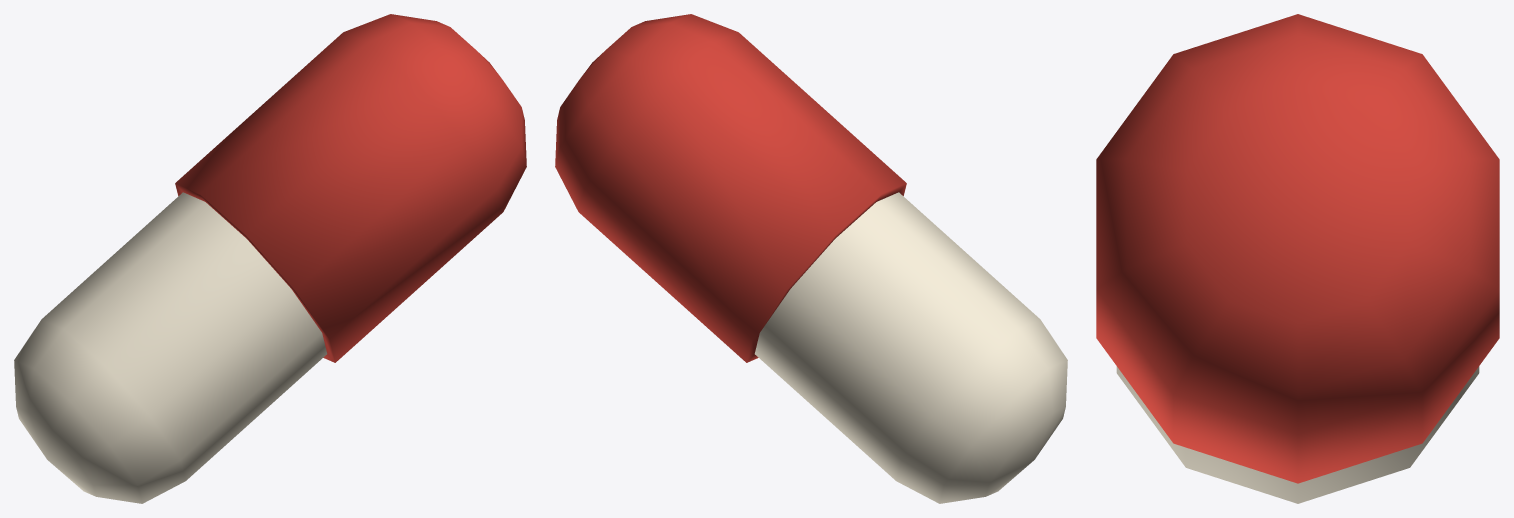
The model's file is life-pillCapsule.glb.
3 views of the same model, side by side, from view 1: azimuth 30°, elevation 25°; view 2: azimuth 150°, elevation 25°; view 3: azimuth 270°, elevation 25° (orthographic). The views are drawn at different scales.
Visible parts, largest first — view 1: life.pillCapsule; view 2: life.pillCapsule; view 3: life.pillCapsule.
Part boxes in pixels (bbox=[...]): life.pillCapsule: bbox=[14, 14, 526, 503]; life.pillCapsule: bbox=[555, 14, 1067, 503]; life.pillCapsule: bbox=[1096, 14, 1499, 503].
Bounding box in the file's own units: 1.83 × 1.46 × 0.7541.
Materials: 2 (2 with a texture image).
